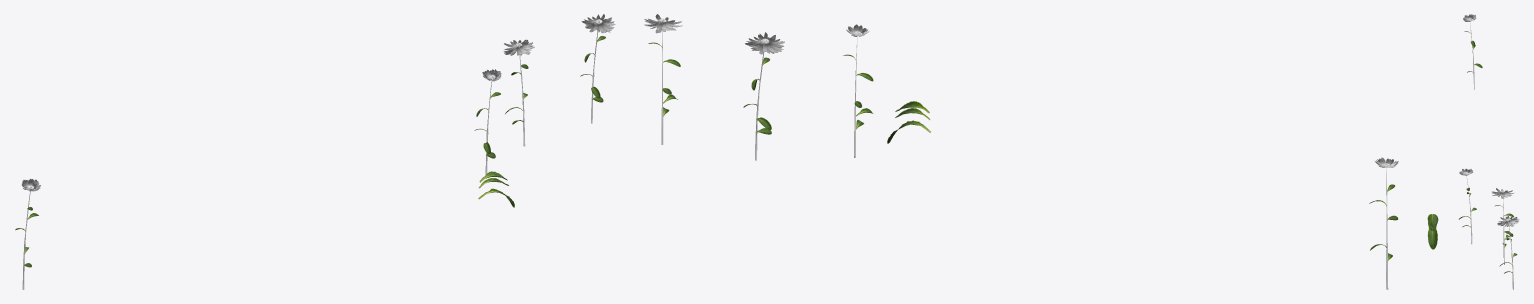
File: marguerite-legere.glb
The picture shows the model from 3 angles, left to right: view 1: azimuth 30°, elevation 25°; view 2: azimuth 150°, elevation 25°; view 3: azimuth 270°, elevation 25°; orthographic projection. The views are drawn at different scales.
Parts seen in each view (by area): view 1: Marguerite_2, Marguerite_1, Marguerite_4, Marguerite_3; view 2: Marguerite_1, Marguerite_2, Marguerite_4, Marguerite_3; view 3: Marguerite_2, Marguerite_1, Marguerite_3, Marguerite_4, Leaf, Leaf.003.
Part boxes in pixels (x1,y1,x2,y2): Marguerite_2: [580, 14, 615, 123]; Marguerite_1: [503, 39, 534, 146]; Marguerite_4: [474, 69, 501, 178]; Marguerite_3: [15, 178, 40, 289]; Marguerite_1: [743, 32, 784, 160]; Marguerite_2: [644, 14, 682, 144]; Marguerite_4: [843, 24, 873, 157]; Marguerite_3: [1369, 157, 1398, 289]; Marguerite_2: [1497, 216, 1519, 289]; Marguerite_1: [1491, 188, 1513, 264]; Marguerite_3: [1463, 14, 1482, 89]; Marguerite_4: [1459, 168, 1476, 244]; Leaf: [1427, 228, 1437, 249]; Leaf.003: [1427, 214, 1438, 227].
Size of the model in its own units: 1.58 by 0.2843 by 0.2938.
4 materials, 1 textured.
